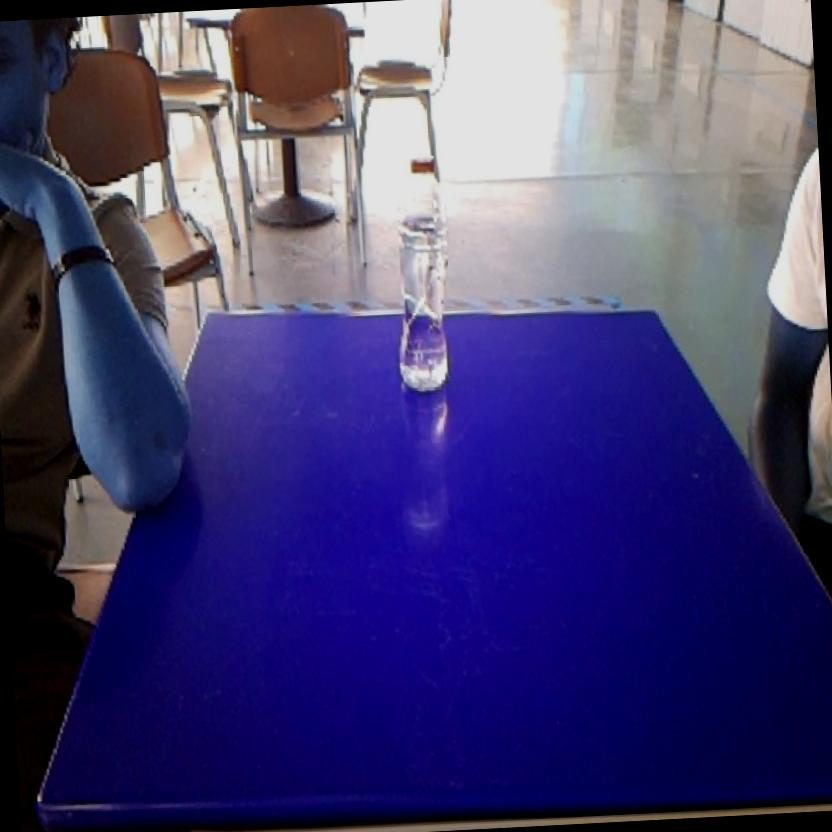no_label: (380, 146, 464, 403)
